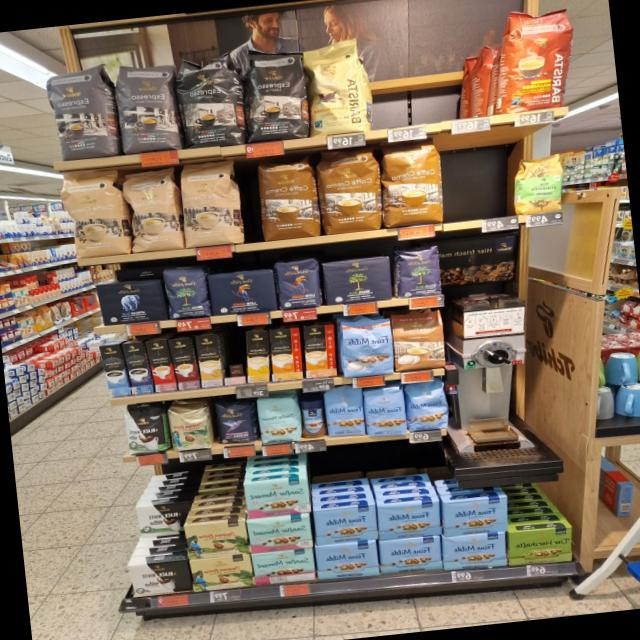AB Gemahlen: (91, 278, 165, 328)
Athiopien Bohne: (508, 149, 568, 216)
BM Bohne: (391, 243, 444, 300), (162, 263, 210, 321)
BM Gemahlen: (321, 254, 394, 306)
BW Bohne: (120, 403, 170, 455)
BW Gemahlen: (129, 558, 191, 598)
Barista CB: (302, 34, 369, 136)
Barista Kolumbien: (490, 3, 580, 114)
C Fino Bohne: (213, 400, 257, 446)
CC Mild: (56, 168, 126, 260), (176, 157, 243, 249), (120, 164, 182, 253)
CC Vollmundig: (389, 308, 446, 372)
CC Vollmundig 36 Pads: (376, 136, 448, 228), (314, 143, 383, 234), (254, 152, 320, 242)
Colombia BB Bohne: (165, 402, 212, 453)
Colombia BB Gemahlen: (189, 552, 254, 594), (186, 517, 248, 560)
Espresso Aromatisch: (42, 59, 118, 162), (112, 61, 182, 155)
Espresso Kraftig: (173, 50, 247, 148), (239, 46, 310, 142)
FM 36 Pads: (336, 315, 395, 378)
FM Bohne: (404, 376, 451, 432), (360, 382, 406, 437), (322, 385, 367, 439)
FM Gemahlen: (440, 494, 511, 536), (312, 502, 379, 546), (441, 530, 509, 572), (377, 534, 442, 576), (314, 540, 380, 581), (376, 500, 443, 540)
FM Instant: (298, 394, 326, 440)
Herzhatfe Mundig: (504, 525, 576, 567)
LG Bohne: (273, 255, 323, 311)
LG Gemahlen: (206, 266, 276, 318)
SM Bohne: (256, 392, 302, 446)
SM Gemahlen: (242, 474, 310, 518), (246, 512, 314, 554), (250, 547, 316, 587)
Simo CCMild bigpack: (245, 329, 269, 382)
Simo CCVollmundig: (301, 323, 338, 378), (268, 327, 304, 381)
Simo Decaff: (196, 334, 222, 388)
Simo Es Brazil: (145, 338, 178, 392)
Simo Es Caramel: (167, 336, 200, 389)
Simo Es Kraft: (122, 340, 154, 394)
Simo Es Vanilla: (98, 343, 131, 396)
